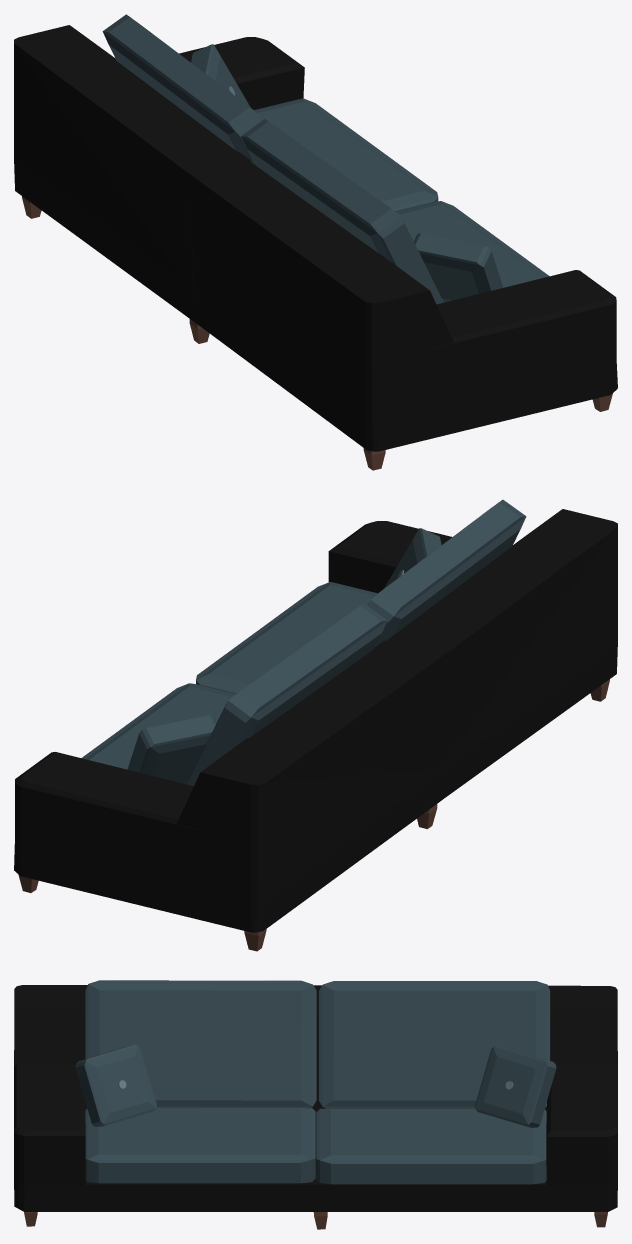
Rendered from sofa.gltf.
3 views of the same model, one above another, from view 1: azimuth 30°, elevation 25°; view 2: azimuth 150°, elevation 25°; view 3: azimuth 270°, elevation 25° (orthographic). The views are drawn at different scales.
Parts seen in each view (by area): view 1: node_MeshObject634761920-PolyPaper20; view 2: node_MeshObject634761920-PolyPaper20; view 3: node_MeshObject634761920-PolyPaper20.
Part boxes in pixels (box(x1,y1,x2,y2)): node_MeshObject634761920-PolyPaper20: box(14, 14, 617, 470); node_MeshObject634761920-PolyPaper20: box(14, 499, 617, 951); node_MeshObject634761920-PolyPaper20: box(14, 980, 617, 1229).
Size of the model in its own units: 9.65 by 7.69 by 23.52.
